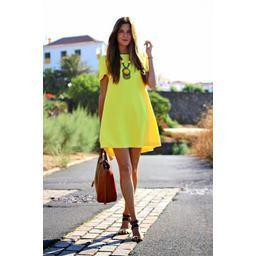dress: (98, 53, 162, 157)
